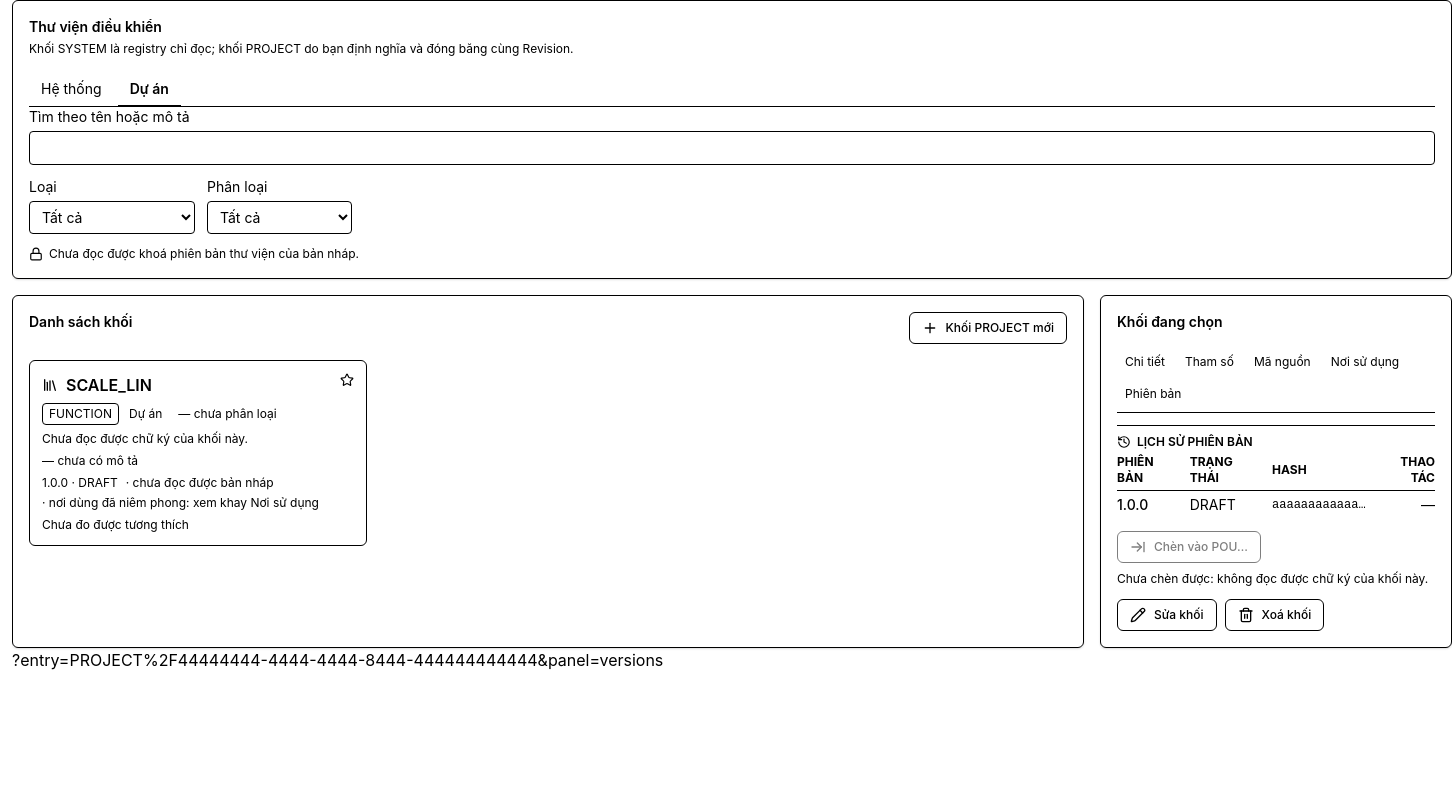
Test case: LibraryPage — returnTo và tab Inspector › tab Inspector đọc từ URL và ghi ngược lại URL
The width and height of the screenshot is (1452, 810).
Click the tab "Tham số" at (1209,362), box top-left (1177, 348), bottom-right (1242, 376)
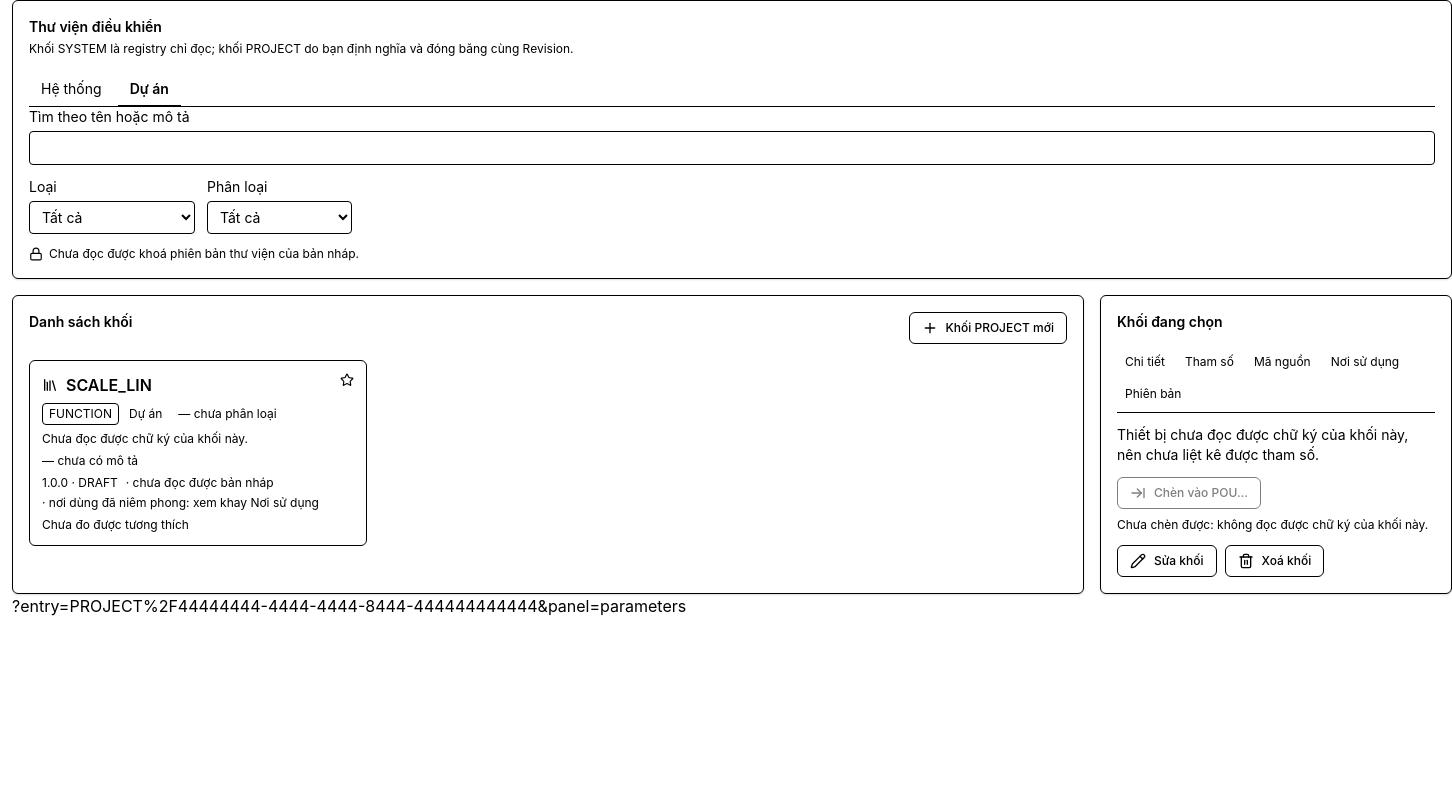
Result: the text with test id "loc" shows "panel=parameters" at top-left (12, 596), bottom-right (686, 616)
